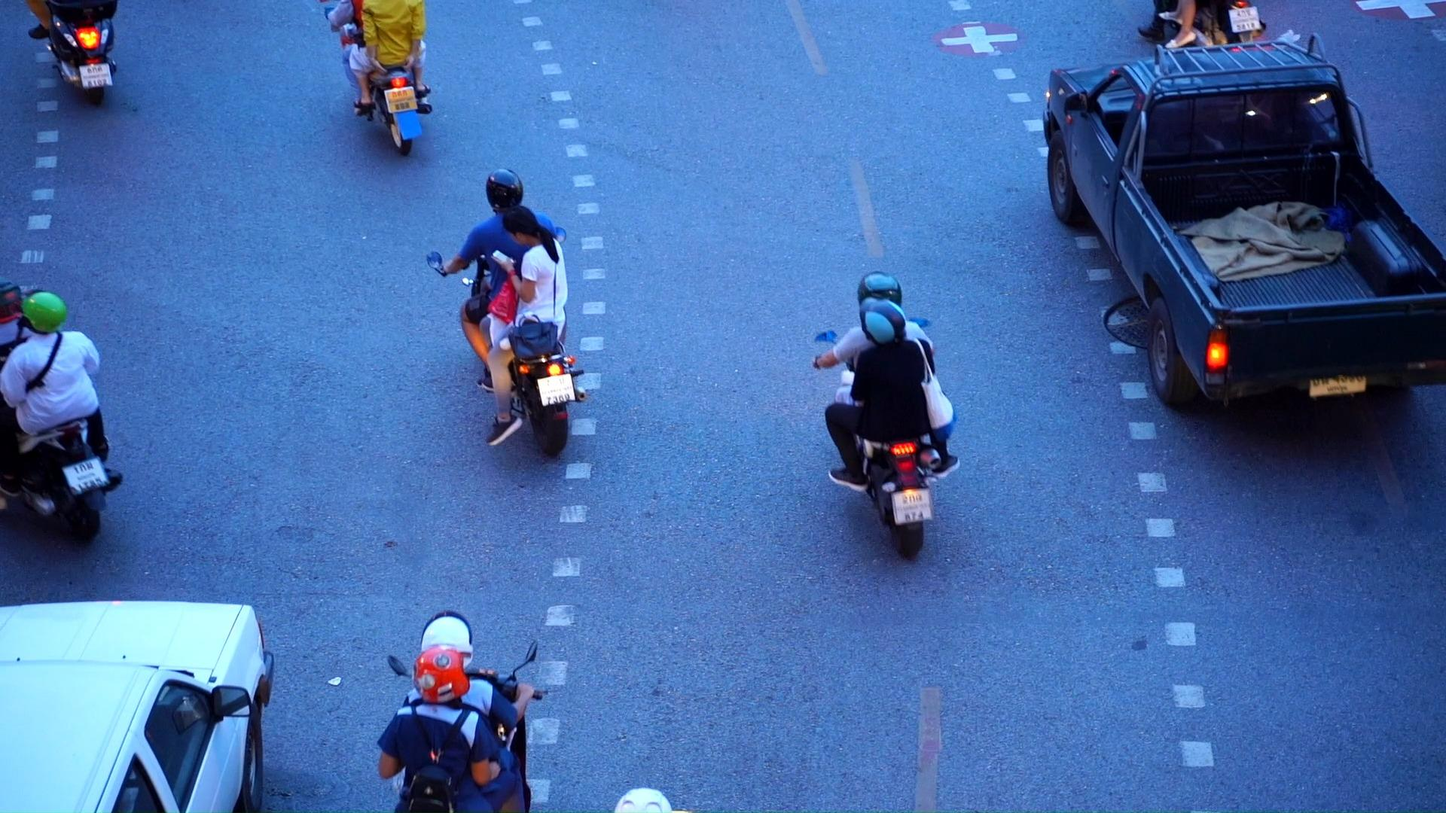driver: (426, 168, 588, 458), (811, 272, 962, 560), (376, 609, 548, 813), (0, 281, 124, 542), (318, 0, 433, 155), (25, 0, 118, 105), (1137, 0, 1267, 48)
helmet: (413, 645, 470, 705), (421, 610, 474, 671), (16, 289, 67, 336), (860, 296, 907, 346), (486, 168, 523, 214), (858, 272, 902, 308), (614, 788, 673, 813), (0, 281, 23, 325)
no-helmet: (503, 206, 555, 247)
